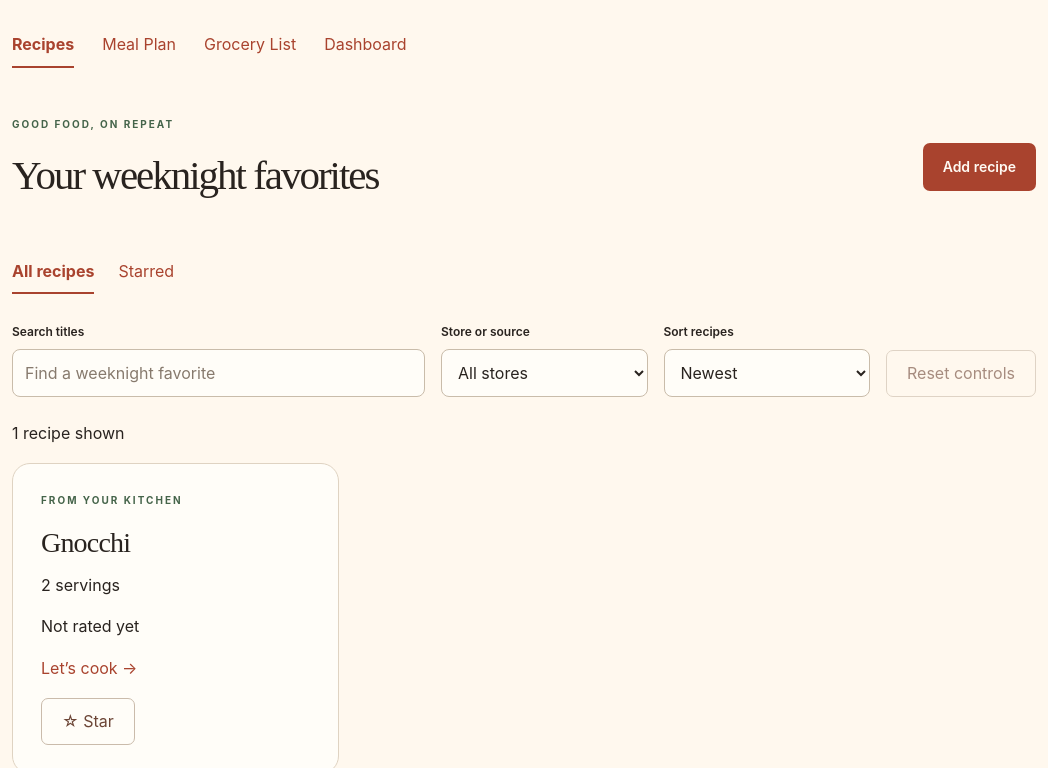
Scenario: lists only through the current owner and opens a full recipe
Click the link "Gnocchi" at x=112, y=586, box x1=41 y1=494 x2=183 y2=678
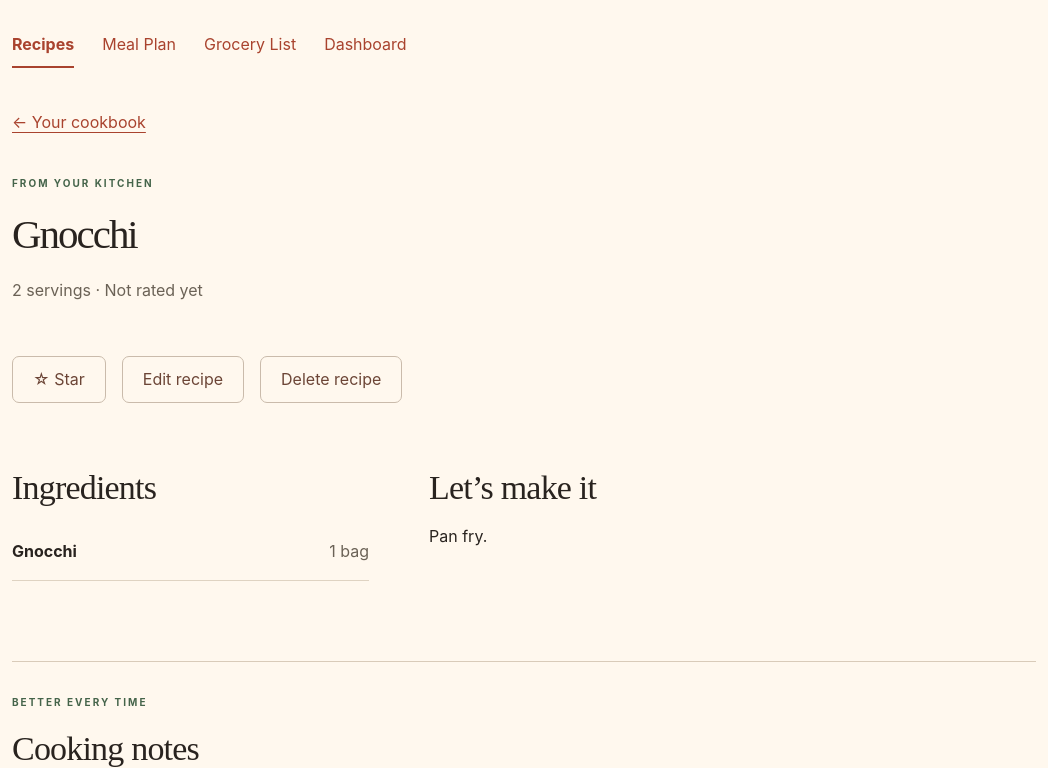
Check: the text "Pan fry." is shown, box x1=429 y1=526 x2=487 y2=546
Check: the text "2 servings · Not rated yet" is shown, box x1=12 y1=280 x2=203 y2=300
